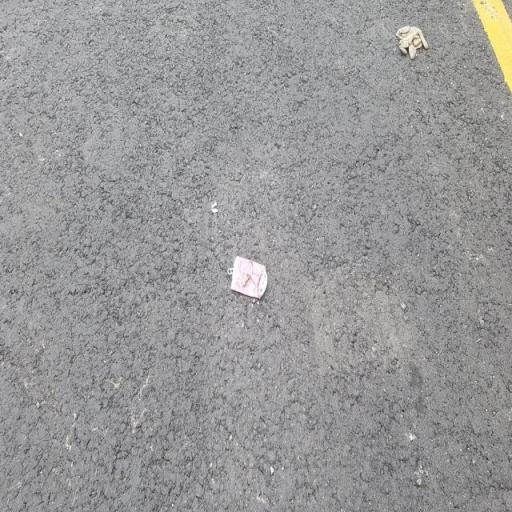metal: (224, 240, 276, 312)
